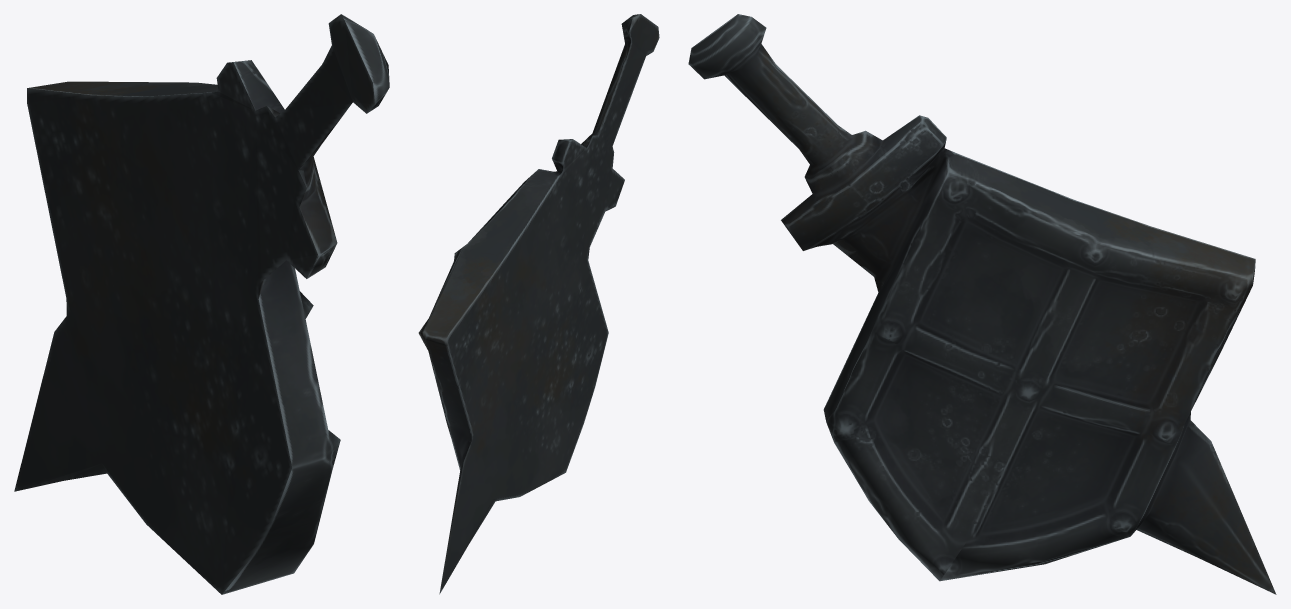
The model's file is S_MVIllage_Sign_ID_WeaponShop_A.fbx.
The picture shows the model from 3 angles, left to right: view 1: azimuth 30°, elevation 25°; view 2: azimuth 150°, elevation 25°; view 3: azimuth 270°, elevation 25°; orthographic projection. The views are drawn at different scales.
Parts seen in each view (by area): view 1: S_MVillage_Sign_ID_WeaponShop_LOD0; view 2: S_MVillage_Sign_ID_WeaponShop_LOD0; view 3: S_MVillage_Sign_ID_WeaponShop_LOD0.
Part boxes in pixels (left/top/right/bottom): S_MVillage_Sign_ID_WeaponShop_LOD0: left=14, top=14, right=389, bottom=594; S_MVillage_Sign_ID_WeaponShop_LOD0: left=418, top=14, right=659, bottom=594; S_MVillage_Sign_ID_WeaponShop_LOD0: left=688, top=14, right=1276, bottom=594.
Size of what is drawn, in the model's own units: 10.63 by 82.74 by 75.94.
